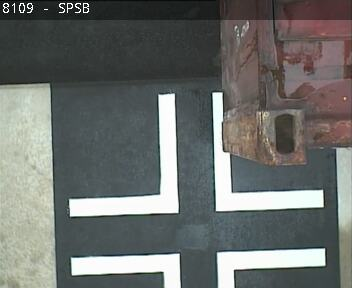groundmarker_1: (68, 92, 323, 221)
